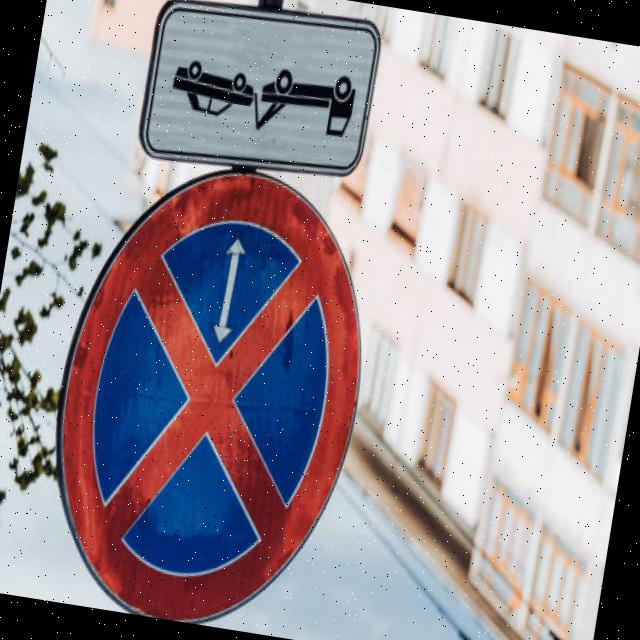no_parking: (30, 147, 391, 640)
